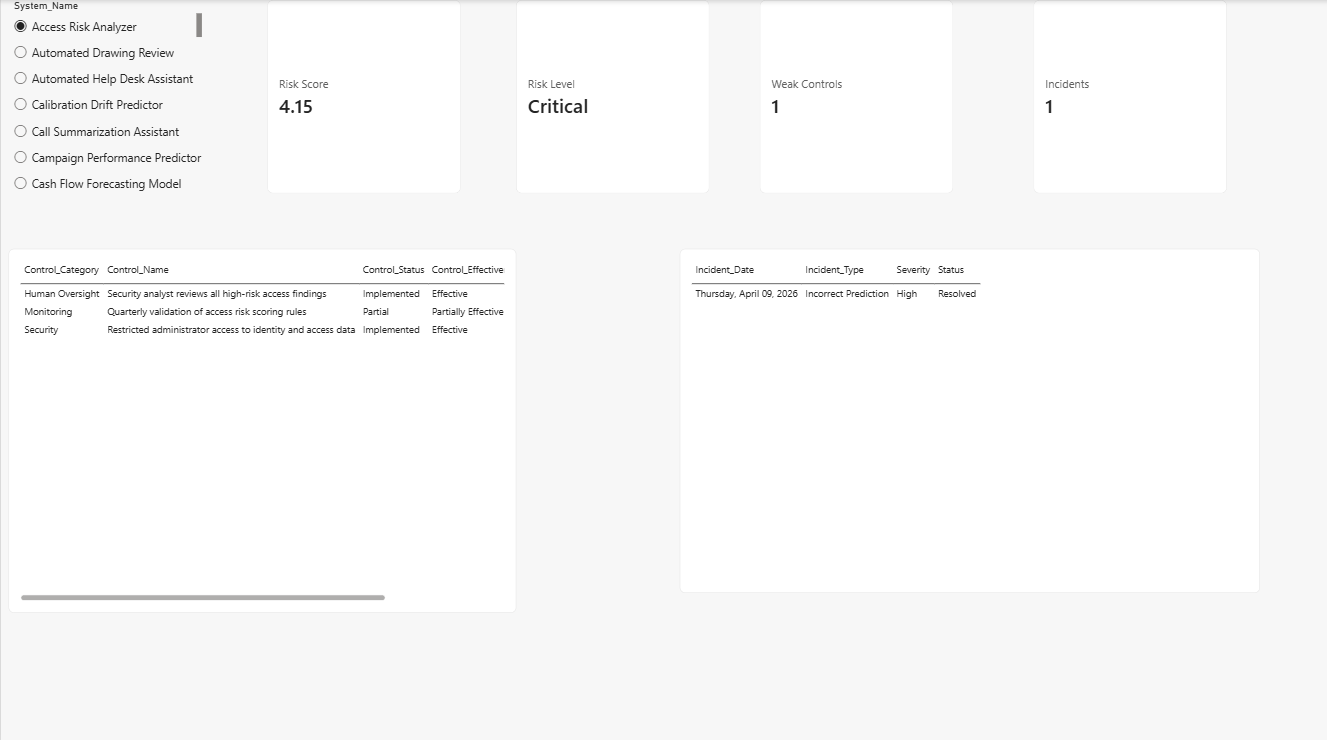

Layout of this report page (visuals, bound fields, positions):
{"tool":"powerbi","page":{"name":"Page 4","canvas":[1920,1080],"ordinal":3},"visuals":[{"type":"slicer","fields":{"Values":["ai_systems.System_Name"]},"box":[10,0,280,280],"z":0},{"type":"cardVisual","title":"Risk Score","fields":{"Data":["Avg(risk_assessments.Overall_Risk_Score)"]},"box":[384.9,0,280,280],"z":1},{"type":"cardVisual","fields":{"Data":["Min(risk_assessments.Risk_Level)"]},"box":[745.1,0,280,280],"z":2},{"type":"cardVisual","fields":{"Data":["governance_controls.Weak Controls"]},"box":[1099.1,0,280,280],"z":3},{"type":"cardVisual","fields":{"Data":["CountNonNull(ai_incidents.Incident_ID)"]},"box":[1494.3,0,280,280],"z":4},{"type":"tableEx","fields":{"Values":["governance_controls.Control_Category","governance_controls.Control_Name","governance_controls.Control_Status","governance_controls.Control_Effectiveness","governance_controls.Next_Review_Date.Variation.Date Hierarchy.Year"]},"box":[10.3,360.2,734.8,526.9],"z":5},{"type":"tableEx","fields":{"Values":["ai_incidents.Incident_Date.Variation.Date Hierarchy.Year","ai_incidents.Incident_Type","ai_incidents.Severity","ai_incidents.Status"]},"box":[981.8,360.2,839.8,498.1],"z":6}]}

Visuals, with their boxes in screenshot pixels (x1, y1, x2, y2), scaled from the page's 1920x1080 canvas onto the 1327x740 screenshot:
slicer - ai_systems.System_Name: (7,0,200,192)
"Risk Score" cardVisual: (266,0,460,192)
cardVisual - Min(risk_assessments.Risk_Level): (515,0,708,192)
cardVisual - governance_controls.Weak Controls: (760,0,953,192)
cardVisual - CountNonNull(ai_incidents.Incident_ID): (1033,0,1226,192)
tableEx - governance_controls.Control_Category x governance_controls.Control_Name: (7,247,515,608)
tableEx - ai_incidents.Incident_Date.Variation.Date Hierarchy.Year x ai_incidents.Incident_Type: (679,247,1259,588)
